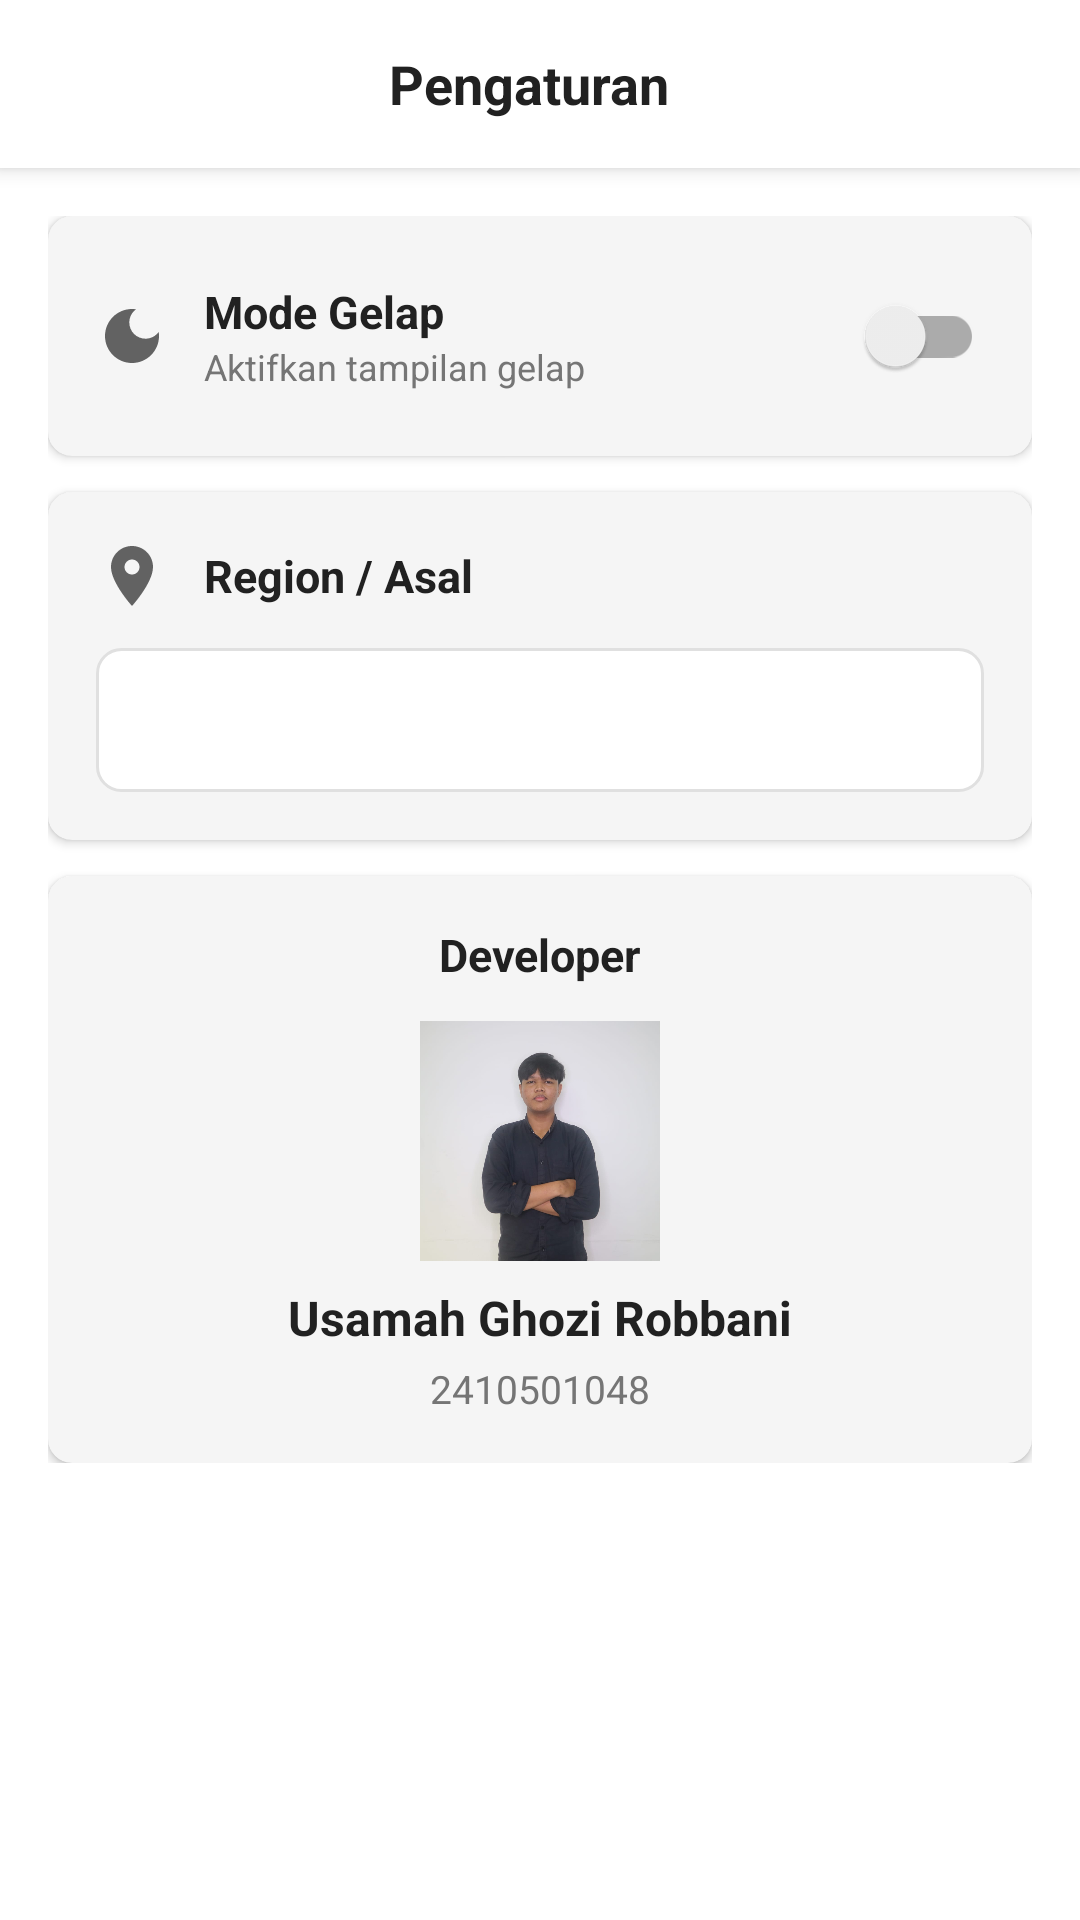

Where icons sit on this 1080px x 1920px app screen, as [left=x1, top=y1, right=x2, bottom=y2]:
Dark Mode: [left=105, top=309, right=159, bottom=363]
